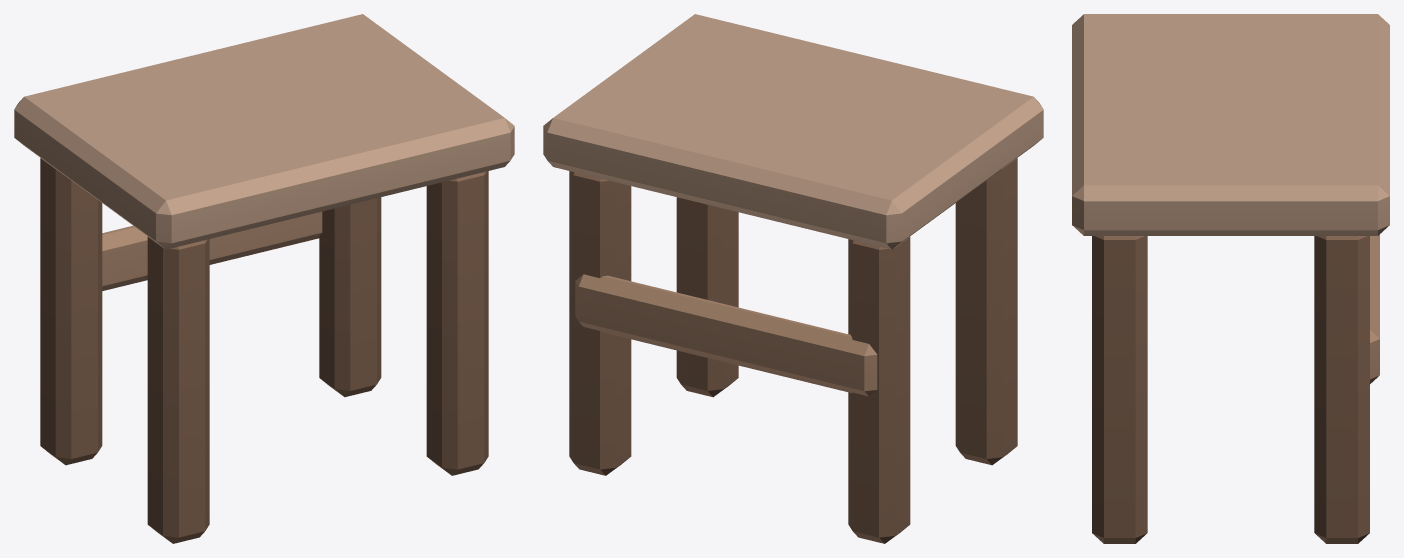
Rendered from prop-moka-dropoff.glb.
The picture shows the model from 3 angles, left to right: view 1: azimuth 30°, elevation 25°; view 2: azimuth 150°, elevation 25°; view 3: azimuth 270°, elevation 25°; orthographic projection. The views are drawn at different scales.
Visible parts, largest first — view 1: prop-moka-dropoff; view 2: prop-moka-dropoff; view 3: prop-moka-dropoff.
Boxes of the visible parts, left/top/right/bottom form: prop-moka-dropoff: left=14, top=14, right=514, bottom=543; prop-moka-dropoff: left=543, top=14, right=1043, bottom=543; prop-moka-dropoff: left=1072, top=14, right=1389, bottom=543.
Size of the model in its own units: 0.54 by 0.51 by 0.4.
